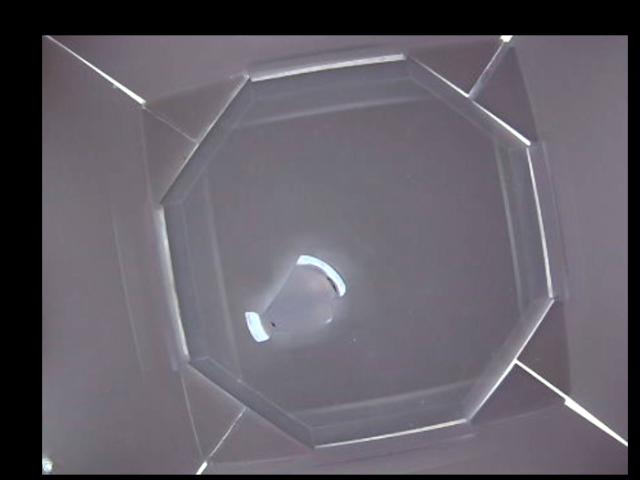China: (242, 254, 343, 343)
